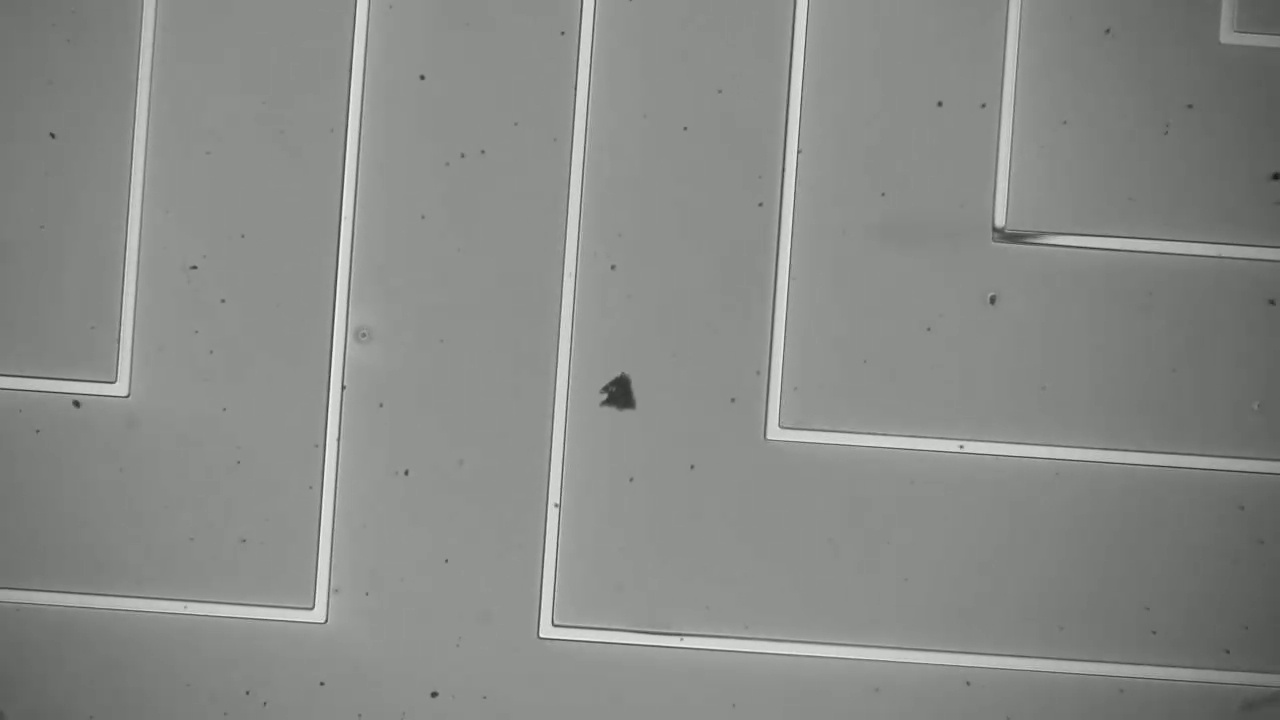gray_line: (980, 216, 1070, 263)
